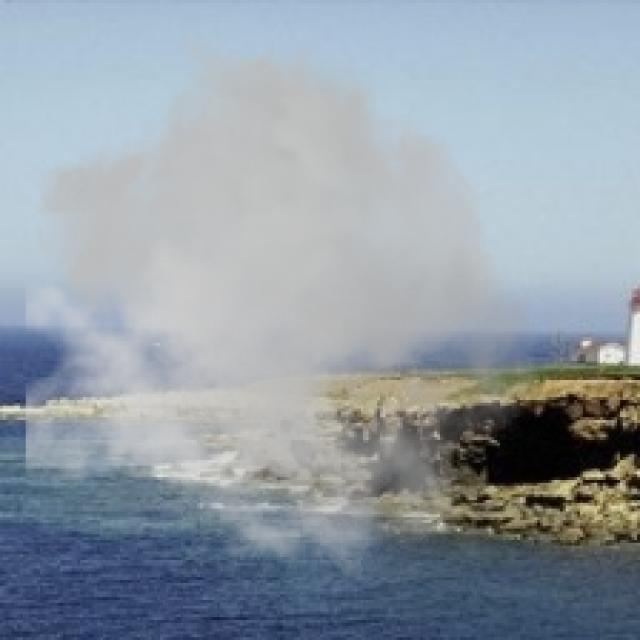smoke: (26, 31, 540, 580)
